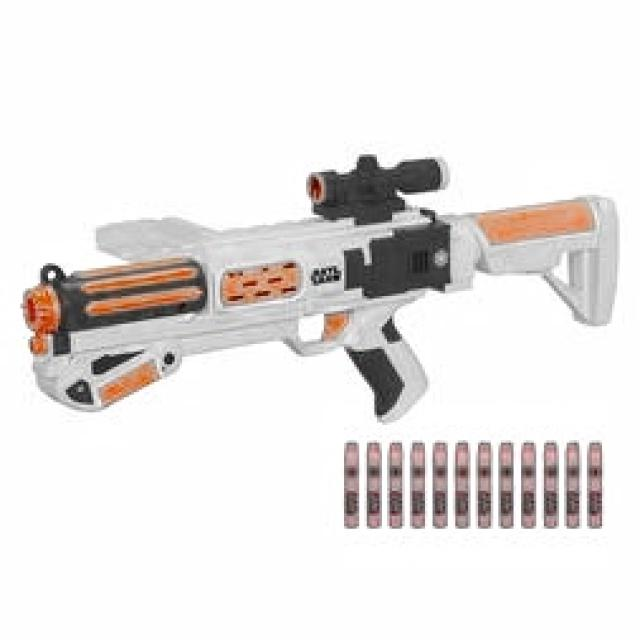Nerf gun: (15, 140, 622, 432)
